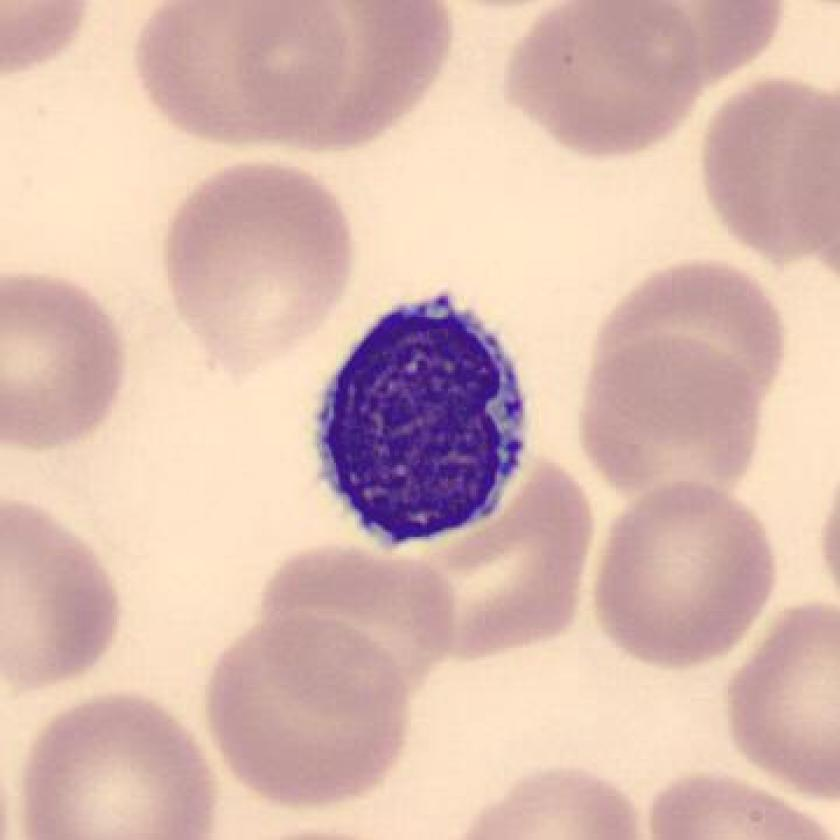lymphocyte: (297, 279, 547, 563)
